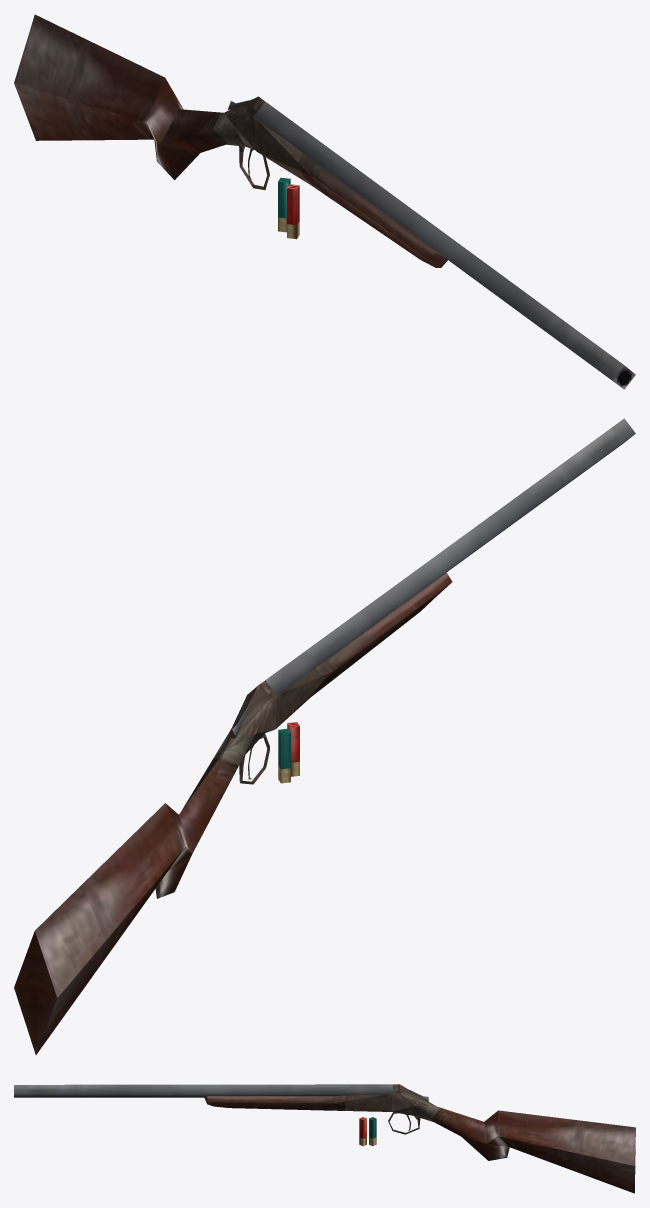
The model's file is one_barrel_shotgun.obj.
The picture shows the model from 3 angles, top to bottom: view 1: azimuth 30°, elevation 25°; view 2: azimuth 150°, elevation 25°; view 3: azimuth 270°, elevation 25°; orthographic projection. The views are drawn at different scales.
Visible parts, largest first — view 1: Shotgun.001, HandGaurd, ShellLowPolyRed.004; view 2: Shotgun.001, HandGaurd; view 3: Shotgun.001, HandGaurd, ShellLowPolyRed.004, ShellLowPolyGreen.004.
Boxes of the visible parts, <box> form: Shotgun.001: <box>14,14,309,190</box>; HandGaurd: <box>254,101,635,389</box>; ShellLowPolyRed.004: <box>287,184,299,239</box>; Shotgun.001: <box>14,668,325,1054</box>; HandGaurd: <box>265,418,635,697</box>; Shotgun.001: <box>345,1084,635,1193</box>; HandGaurd: <box>14,1084,392,1110</box>; ShellLowPolyRed.004: <box>359,1117,366,1146</box>; ShellLowPolyGreen.004: <box>369,1117,376,1146</box>.
Size of the model in its own units: 0.1649 by 0.7552 by 3.89.
Materials: 3 (3 with a texture image).
